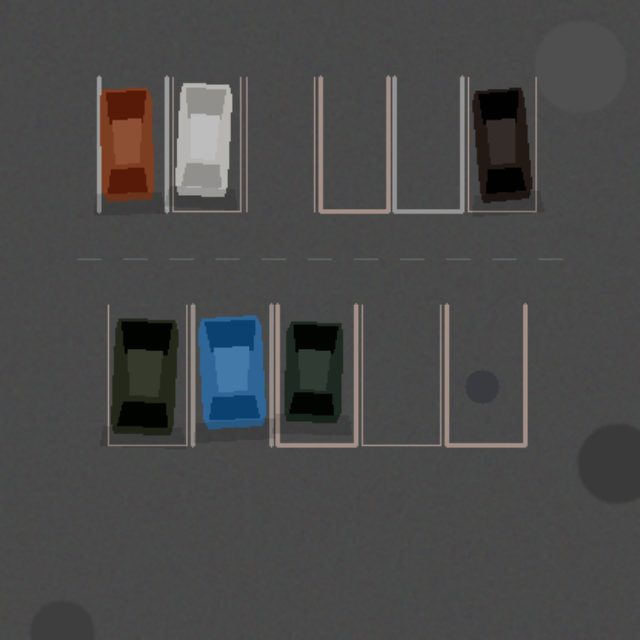space-empty: (446, 305, 525, 445), (362, 305, 440, 445), (246, 77, 314, 211), (320, 77, 388, 211), (394, 77, 462, 211)
space-occupied: (192, 305, 271, 445), (108, 305, 186, 445), (277, 305, 355, 445), (98, 77, 166, 211), (172, 77, 240, 211), (468, 77, 535, 211)
